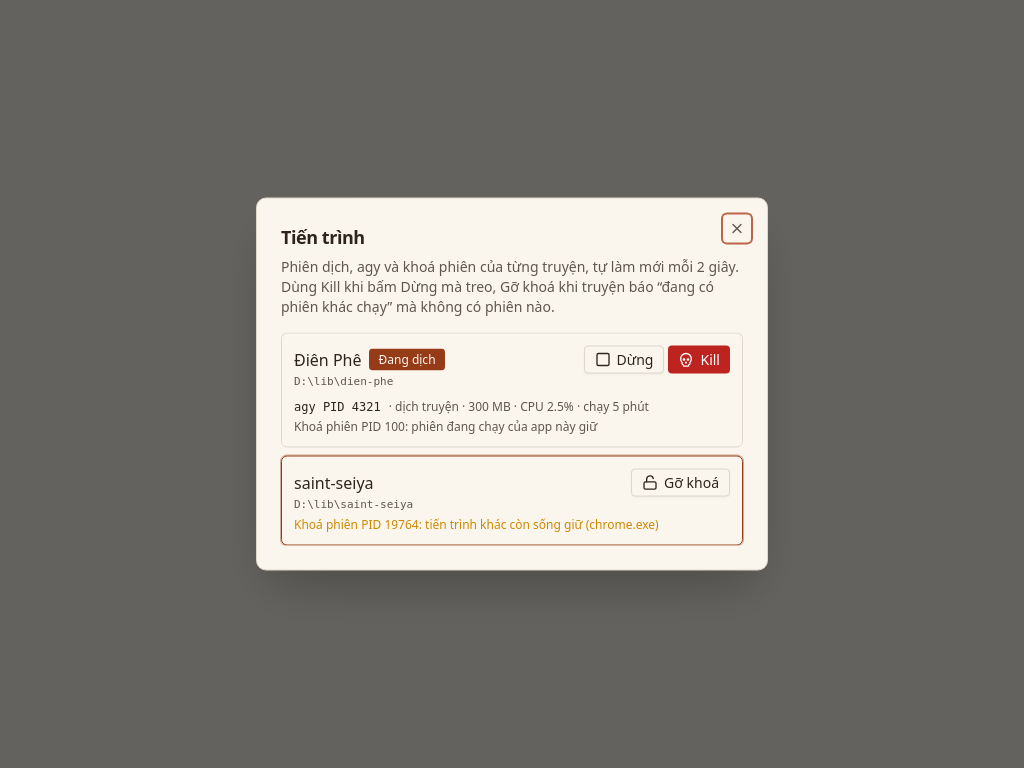
Scenario: ProcessesDialog › Kill hỏi trước, gọi storyKill và đưa phiên trong store về đã dừng ngay
Click the button "Kill".
click(699, 360)  # box [668,346,730,374]
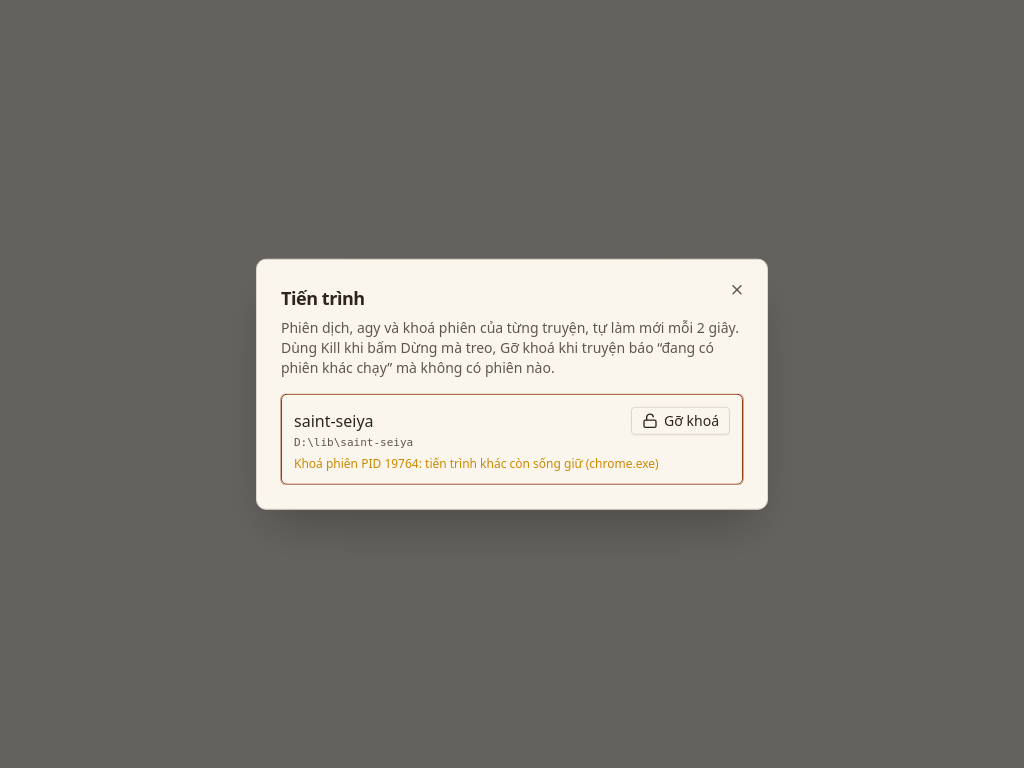
Expected: the text "Điên Phê" is gone
